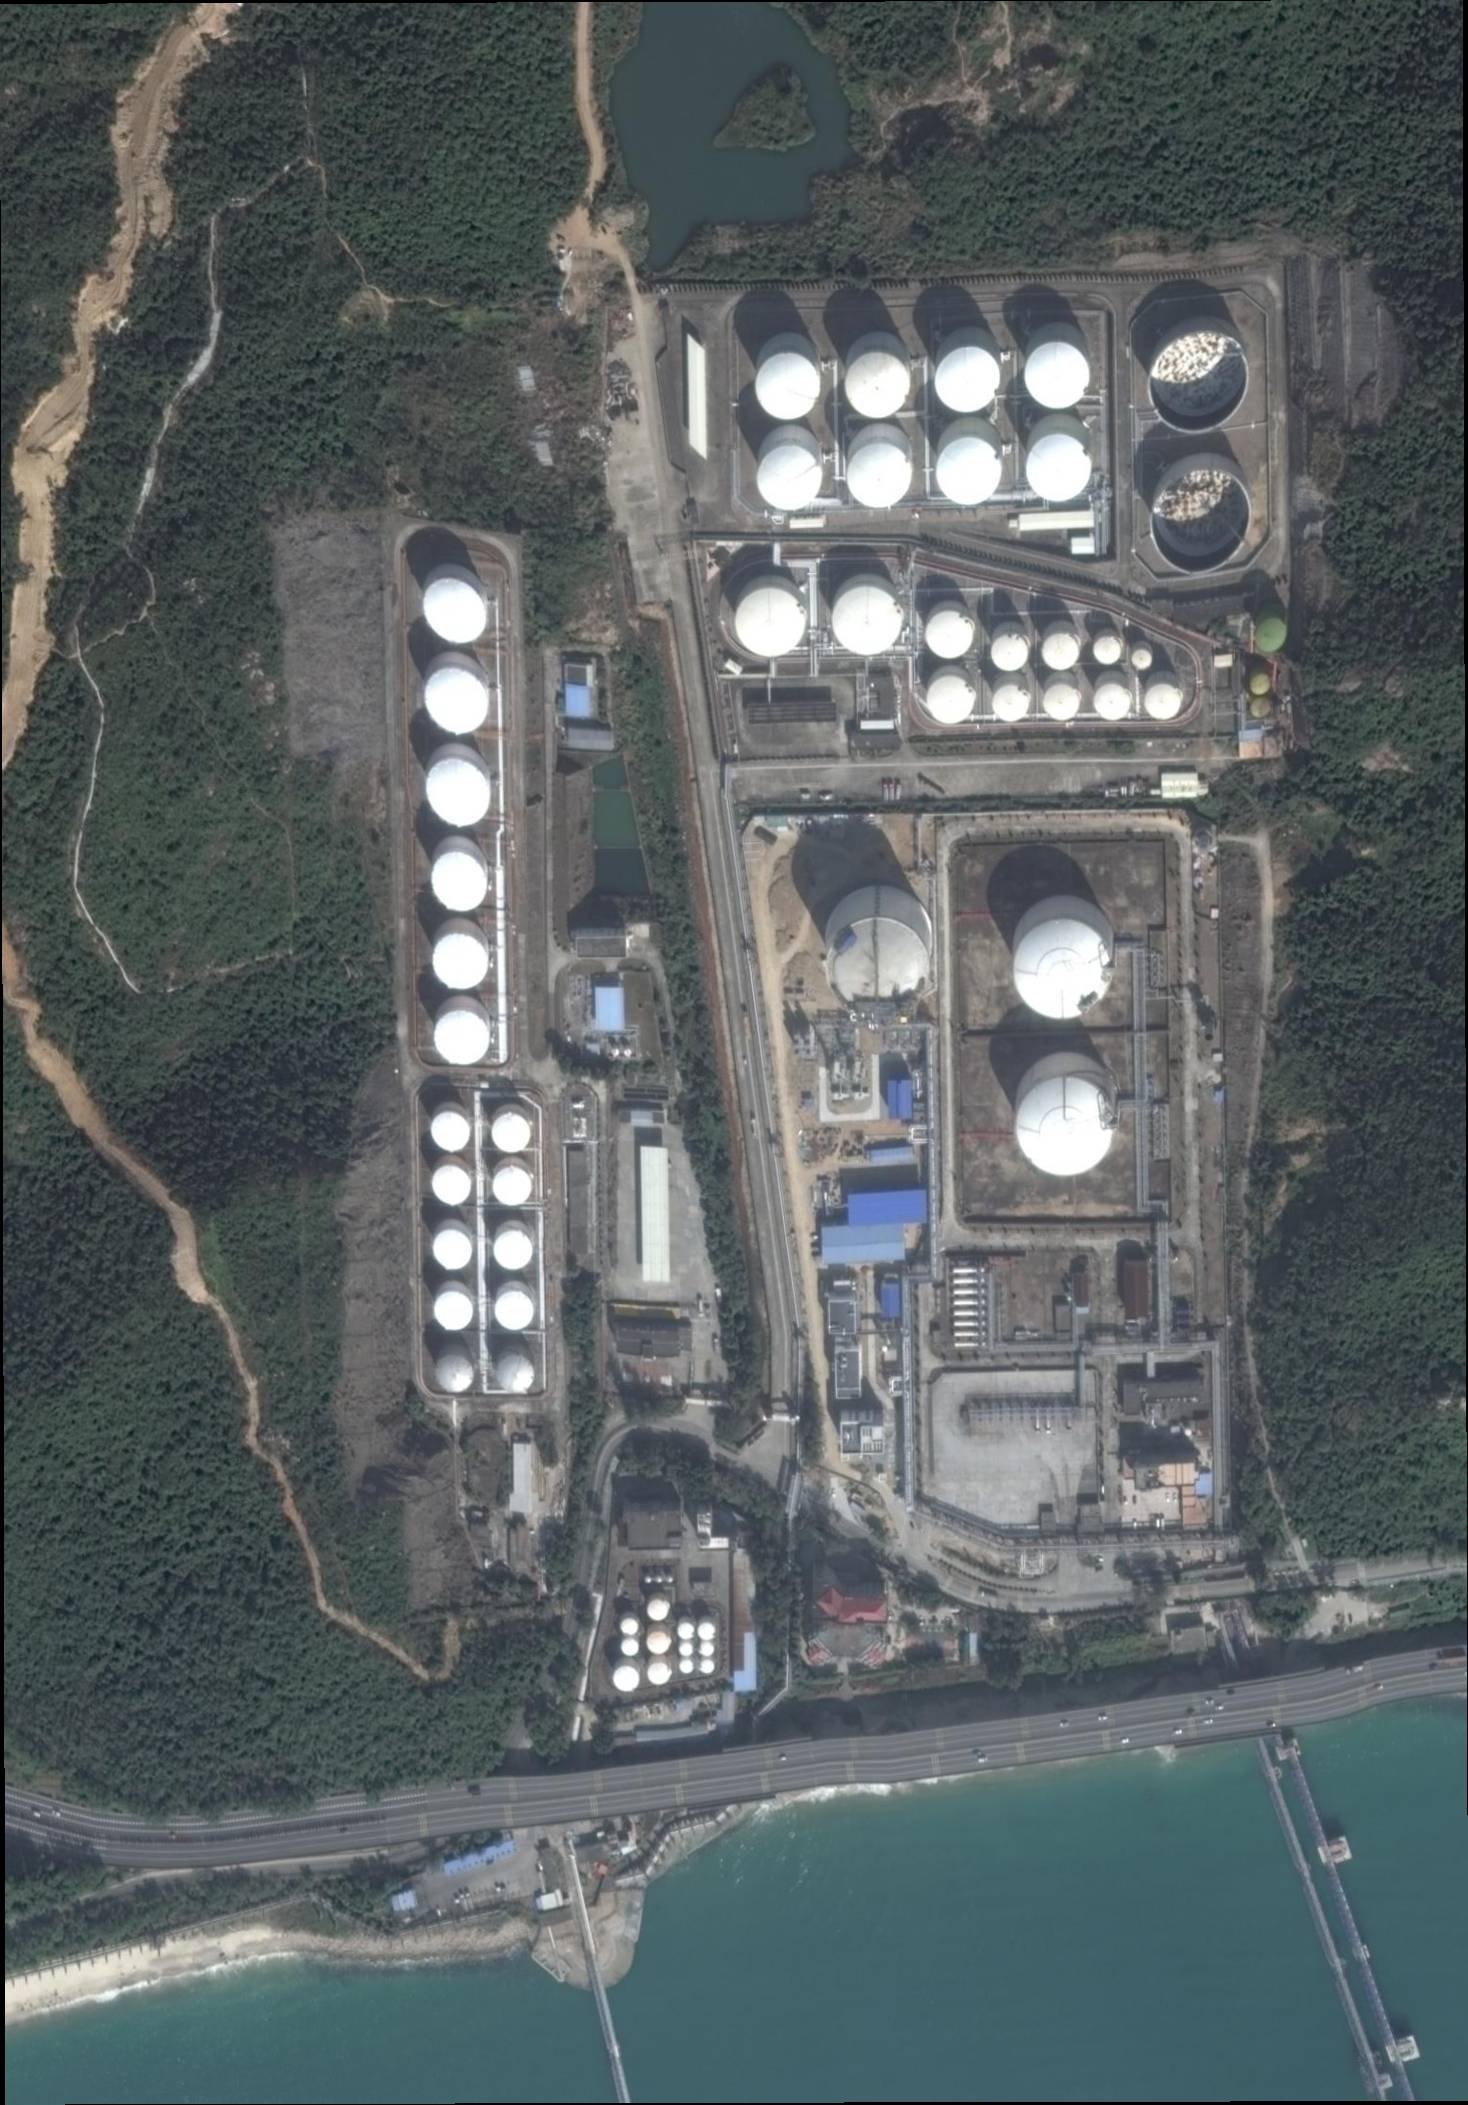storage tank: (1150, 465, 1251, 574), (1150, 331, 1251, 435), (827, 918, 931, 1017), (1014, 1078, 1115, 1177), (1012, 921, 1111, 1021), (832, 585, 904, 656), (736, 589, 806, 657), (844, 350, 912, 421), (932, 346, 1001, 413), (424, 667, 489, 736), (1025, 342, 1091, 409), (1027, 435, 1092, 502), (937, 438, 1003, 505), (848, 443, 913, 510), (756, 446, 824, 512), (422, 577, 488, 645), (427, 758, 491, 827), (756, 353, 820, 421), (432, 853, 489, 912), (432, 934, 489, 992), (433, 1009, 489, 1065), (927, 609, 975, 661), (927, 677, 975, 725), (494, 1291, 536, 1332), (432, 1230, 472, 1272), (432, 1112, 472, 1153), (433, 1291, 473, 1331), (493, 1168, 533, 1208), (493, 1112, 531, 1153), (497, 1353, 536, 1393), (432, 1168, 472, 1206), (991, 633, 1031, 672), (1041, 633, 1079, 672), (435, 1356, 475, 1393), (496, 1232, 533, 1270), (1043, 685, 1081, 721), (991, 685, 1030, 721), (1094, 685, 1131, 721), (1147, 685, 1182, 721), (1255, 617, 1287, 653), (1092, 637, 1123, 665), (614, 1667, 640, 1692), (646, 1632, 672, 1656), (648, 1664, 672, 1684), (1251, 672, 1271, 696), (648, 1600, 668, 1620), (1251, 697, 1271, 718), (1132, 649, 1153, 669), (620, 1640, 640, 1659), (620, 1619, 640, 1636), (676, 1624, 694, 1641), (697, 1624, 716, 1640), (680, 1659, 694, 1675), (699, 1660, 713, 1675), (700, 1643, 713, 1657), (680, 1643, 692, 1657), (644, 1576, 652, 1585), (656, 1576, 664, 1585), (667, 1576, 675, 1584)
